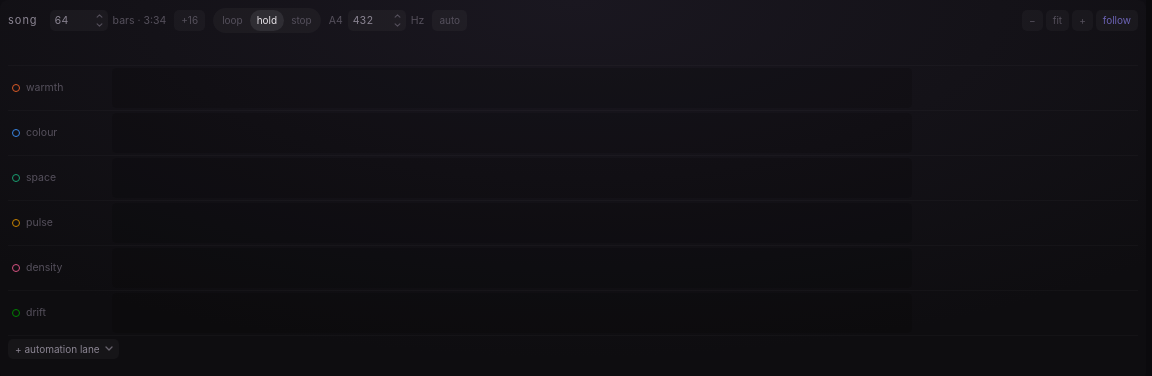
Test: Timeline song settings › shows auto from what is typed, and the auto button resets to the dials
Clear the number field named "Reference pitch for A4 in hertz" at {"x": 370, "y": 20}, box [348,10,392,31]
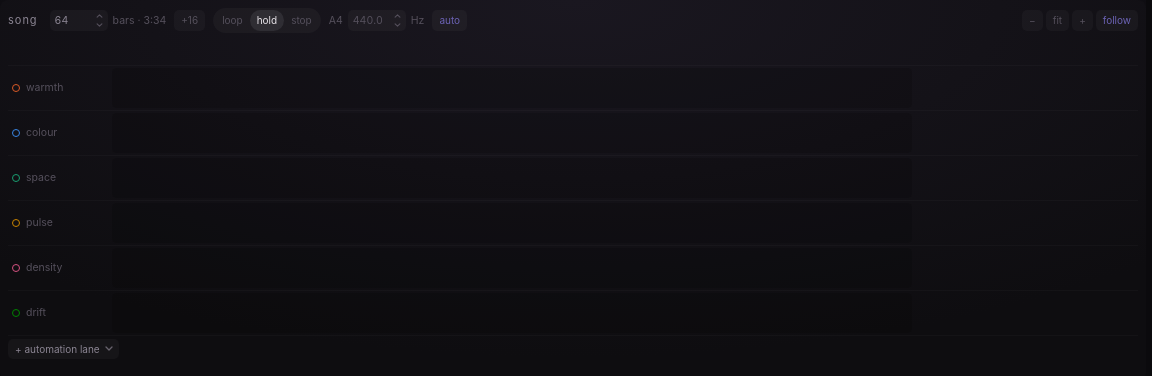
Result: the button "auto" is pressed at [432,10,467,31]
Type "437" into the number field named "Reference pitch for A4 in hertz" at {"x": 370, "y": 20}, box [348,10,392,31]
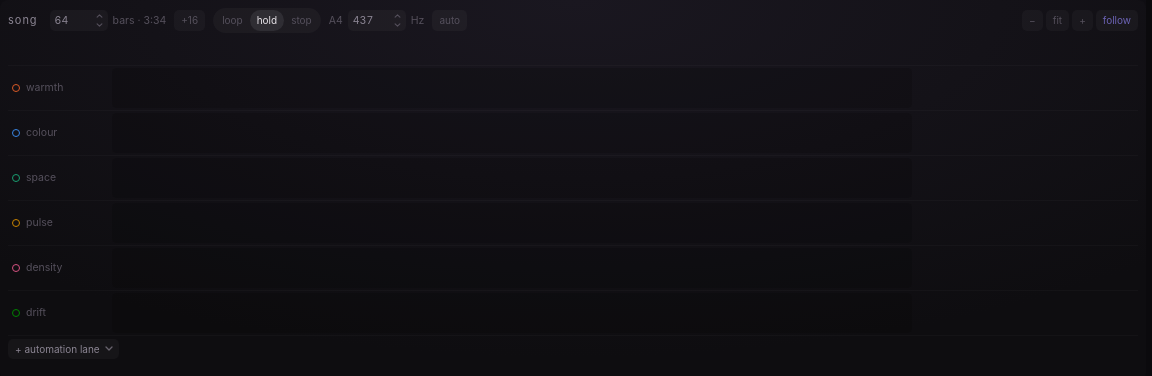
Result: the button "auto" is not pressed
Click the button "auto" at {"x": 450, "y": 20}, box [432,10,467,31]
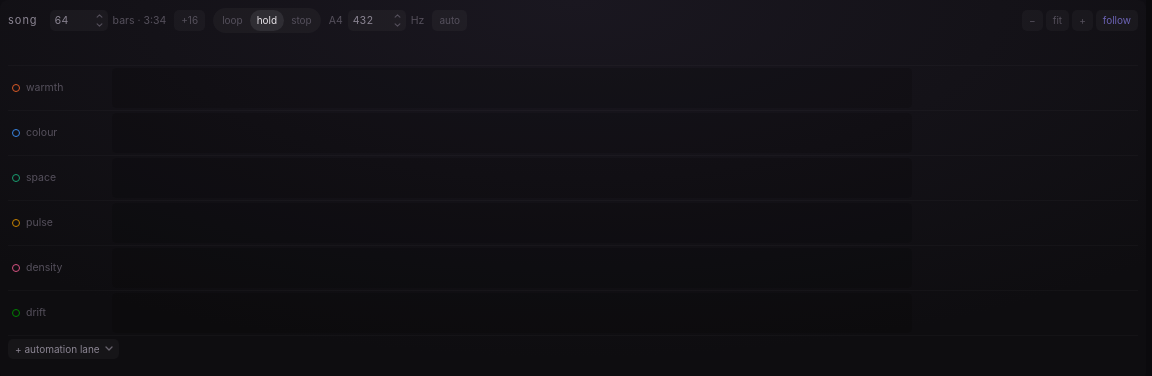
Result: the number field named "Reference pitch for A4 in hertz" holds "432" at [348,10,392,31]
